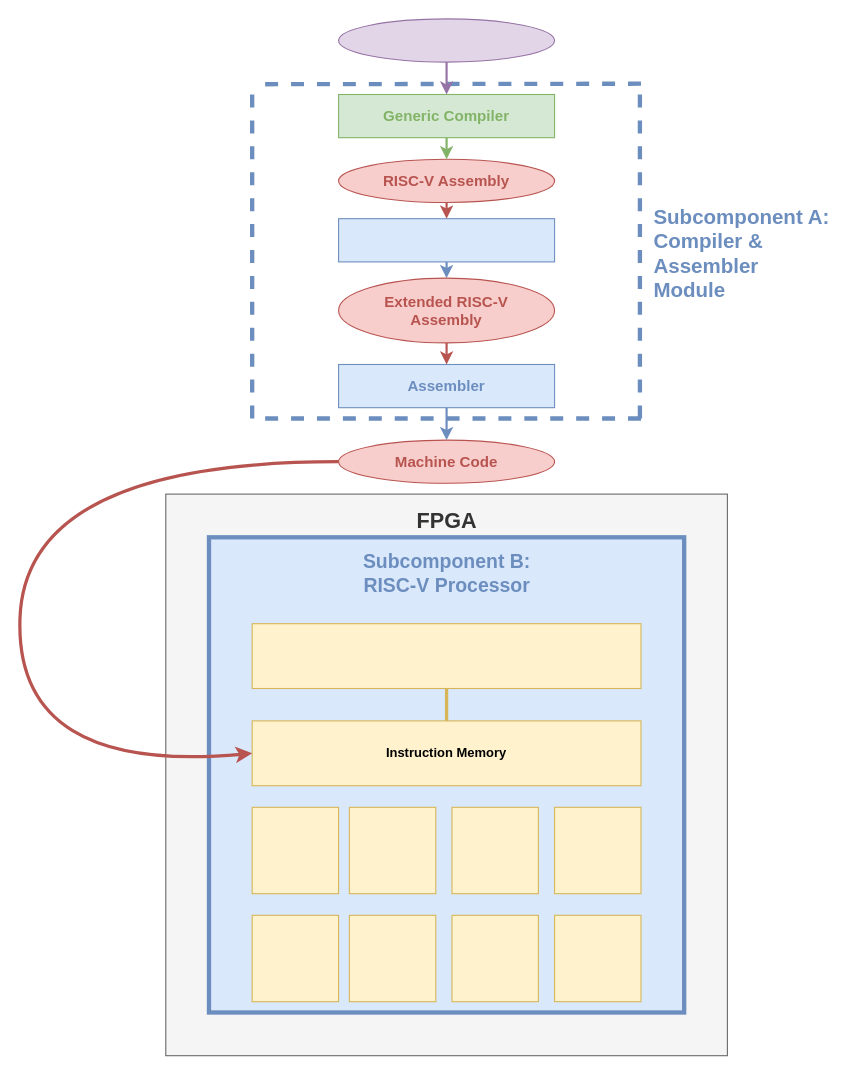
Image size: 865x1075. Some labels were removed from this diagram. The shapes that lost their labels are listed below. From the top down, each one's box as (x1, y1, x2, y2) in pixels, then its label:
(338, 18, 555, 62): High Level Program
(338, 218, 555, 262): Recompiler
(251, 623, 641, 688): Control Unit, designed to support extended RISC-V ISA
